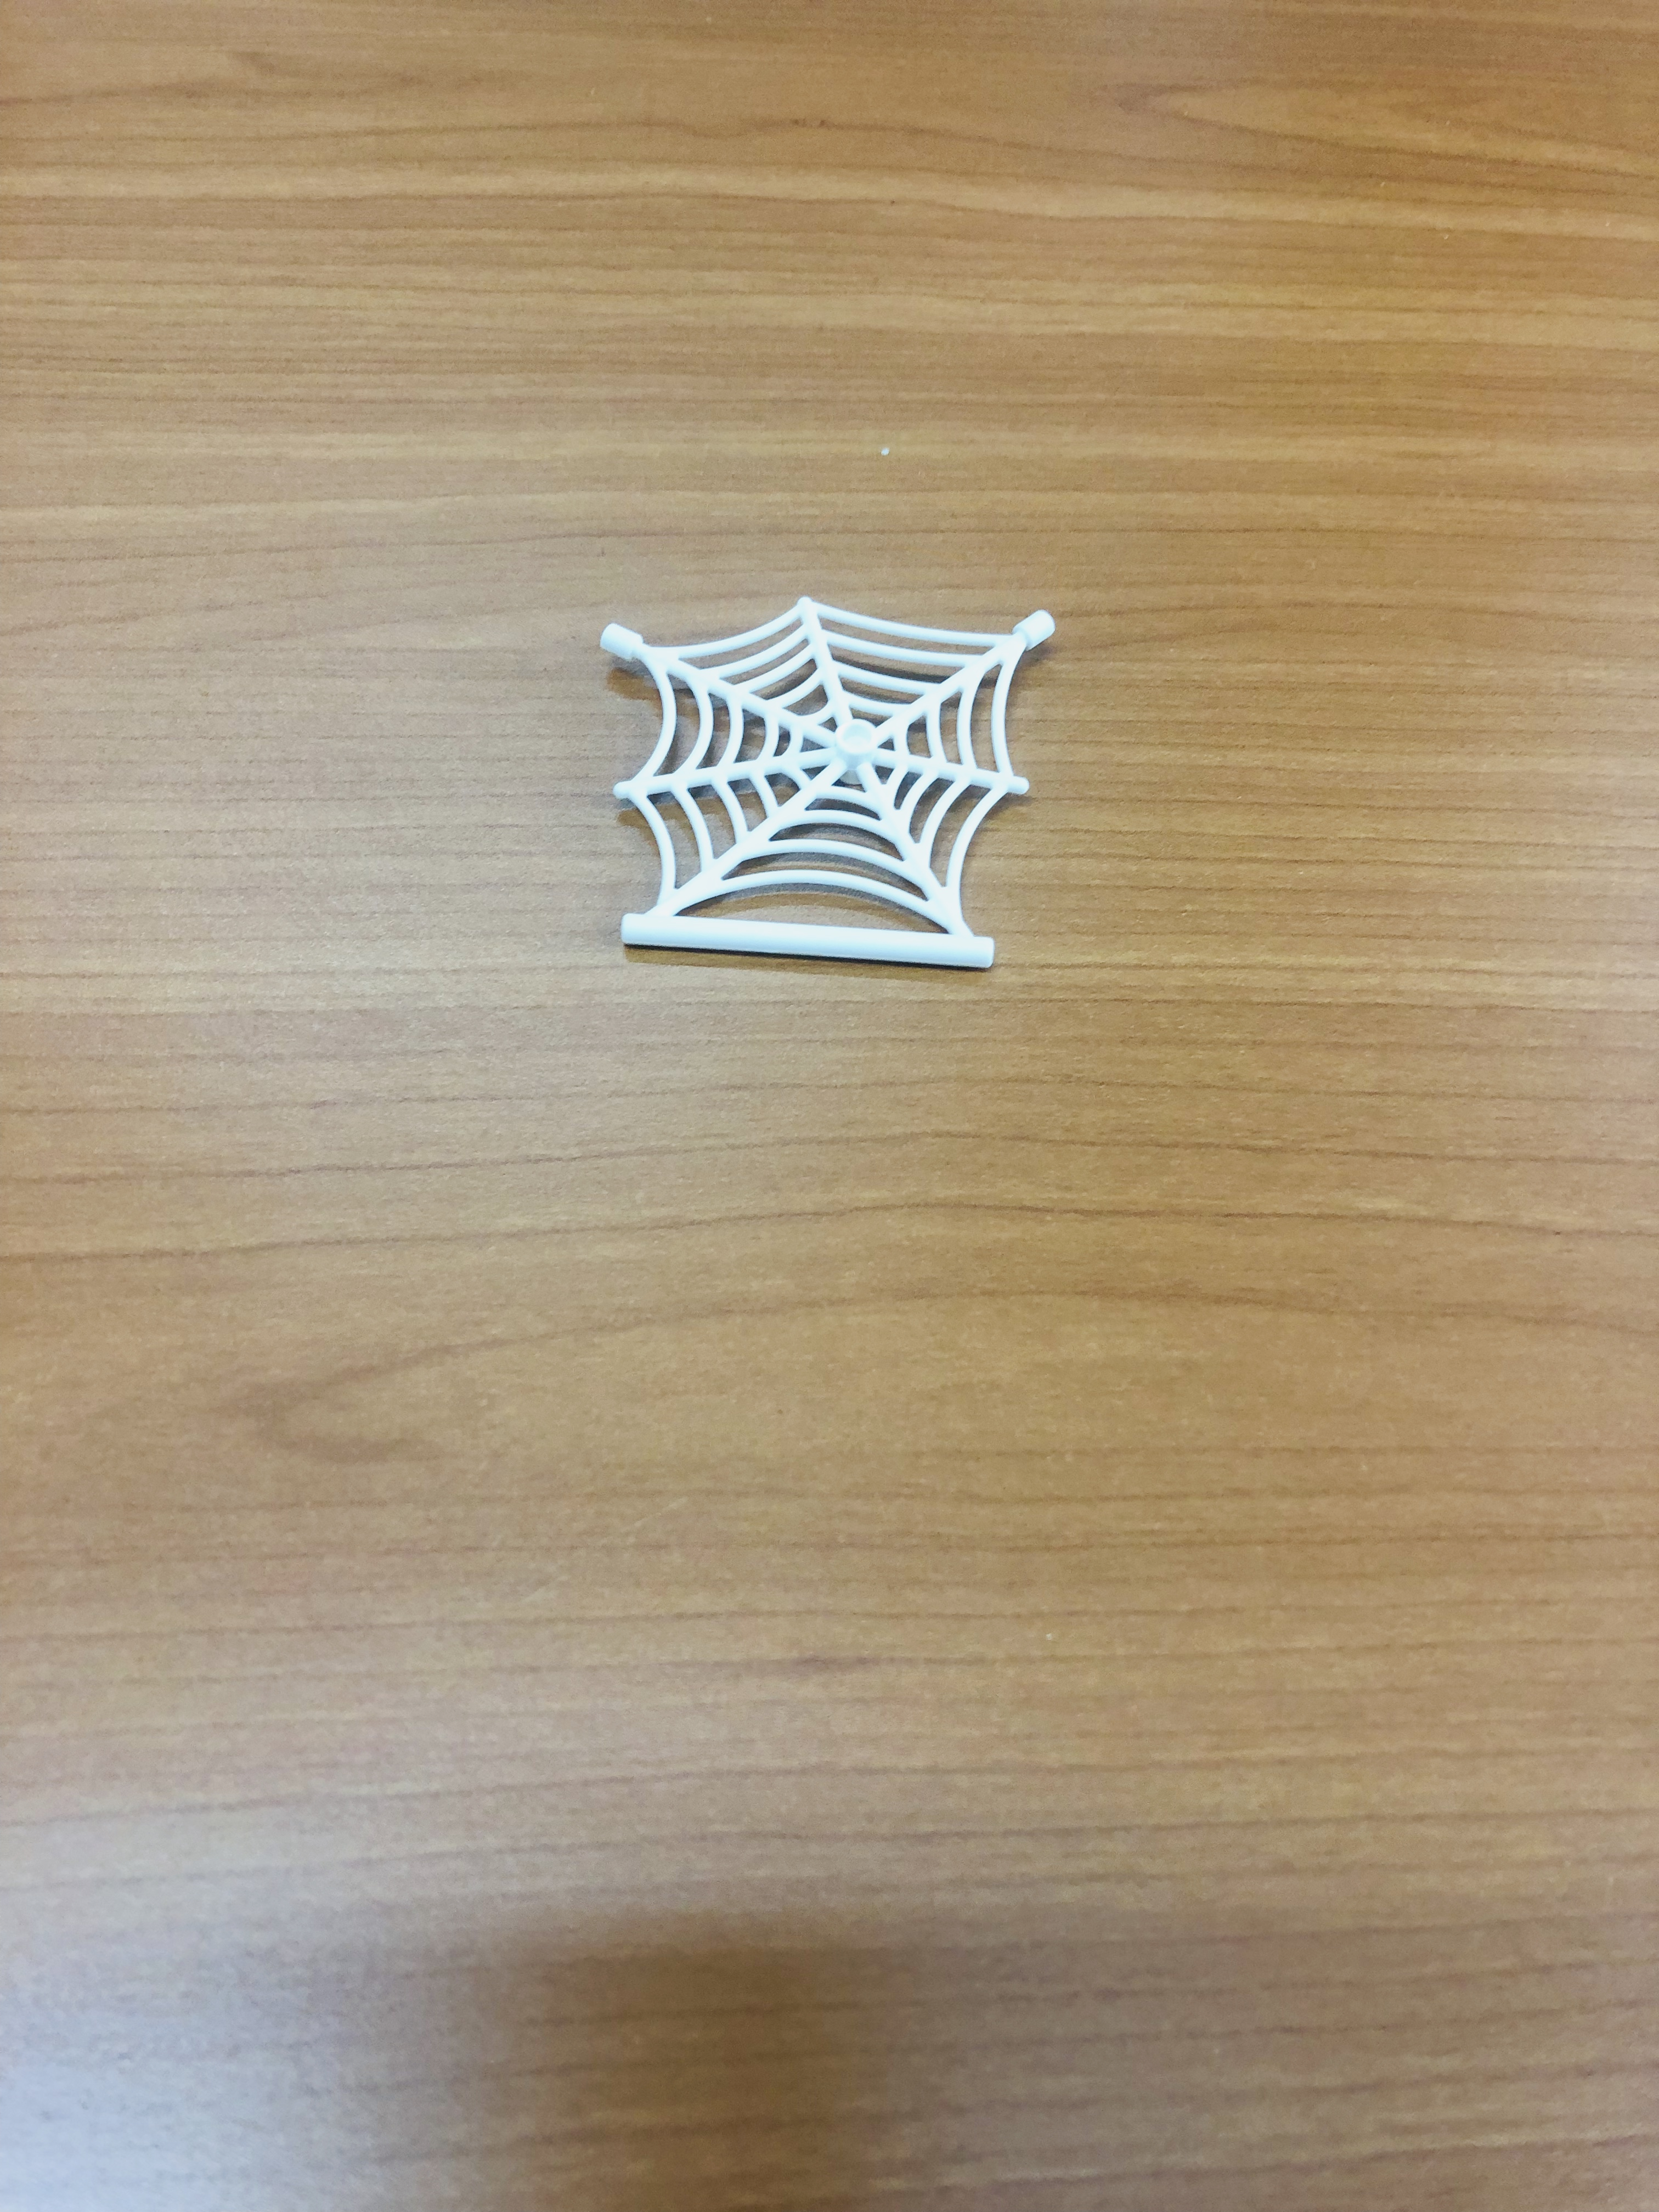web: (555, 564, 1122, 985)
